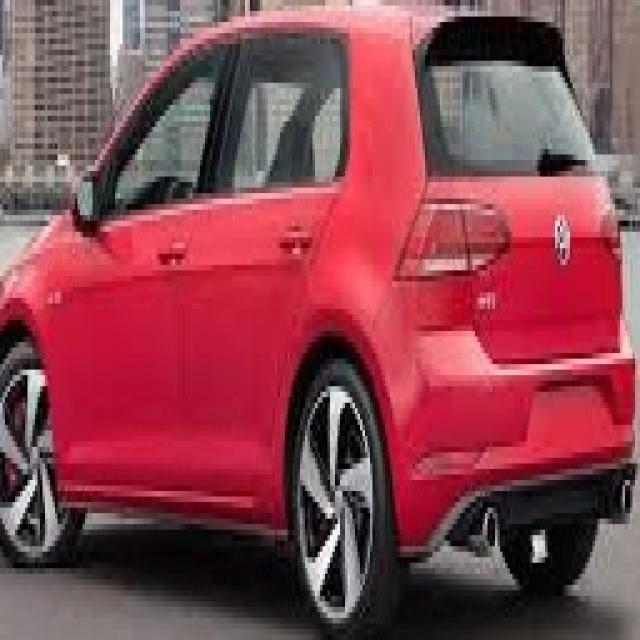red: (0, 11, 640, 607)
